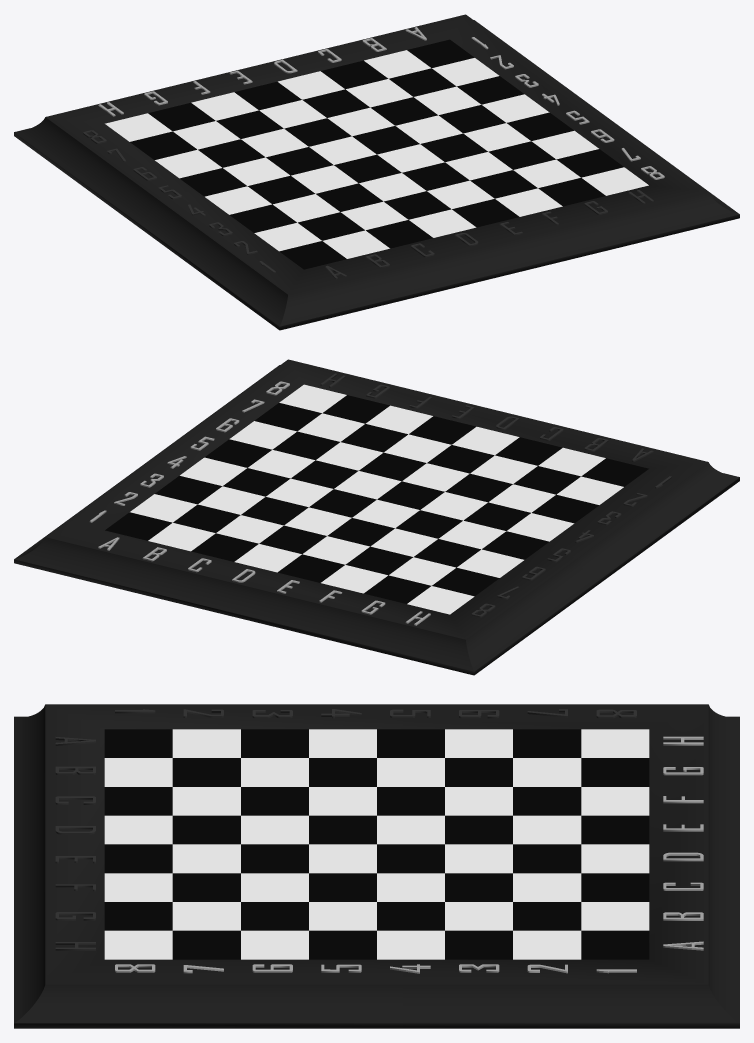
File: chessboardfbx.fbx
3 renders of one model, top to bottom at view 1: azimuth 30°, elevation 25°; view 2: azimuth 150°, elevation 25°; view 3: azimuth 270°, elevation 25°, orthographic. The views are drawn at different scales.
Visible parts, largest first — view 1: Chess Board Surround; view 2: Chess Board Surround; view 3: Chess Board Surround.
Boxes of the visible parts, bbox=[...] form: Chess Board Surround: bbox=[14, 14, 739, 330]; Chess Board Surround: bbox=[14, 359, 739, 675]; Chess Board Surround: bbox=[14, 704, 739, 1028].
Size of the model in its own units: 6399 by 316 by 6399.
1 material, 1 textured.
